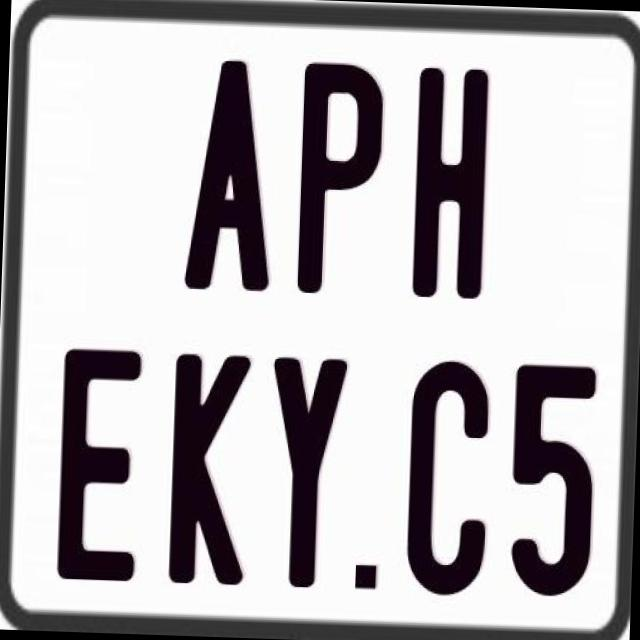5: (503, 363, 598, 600)
A: (182, 60, 277, 298)
C: (406, 355, 492, 600)
E: (56, 348, 150, 591)
H: (409, 64, 488, 303)
K: (164, 354, 246, 590)
P: (293, 58, 388, 292)
Y: (266, 352, 346, 583)
